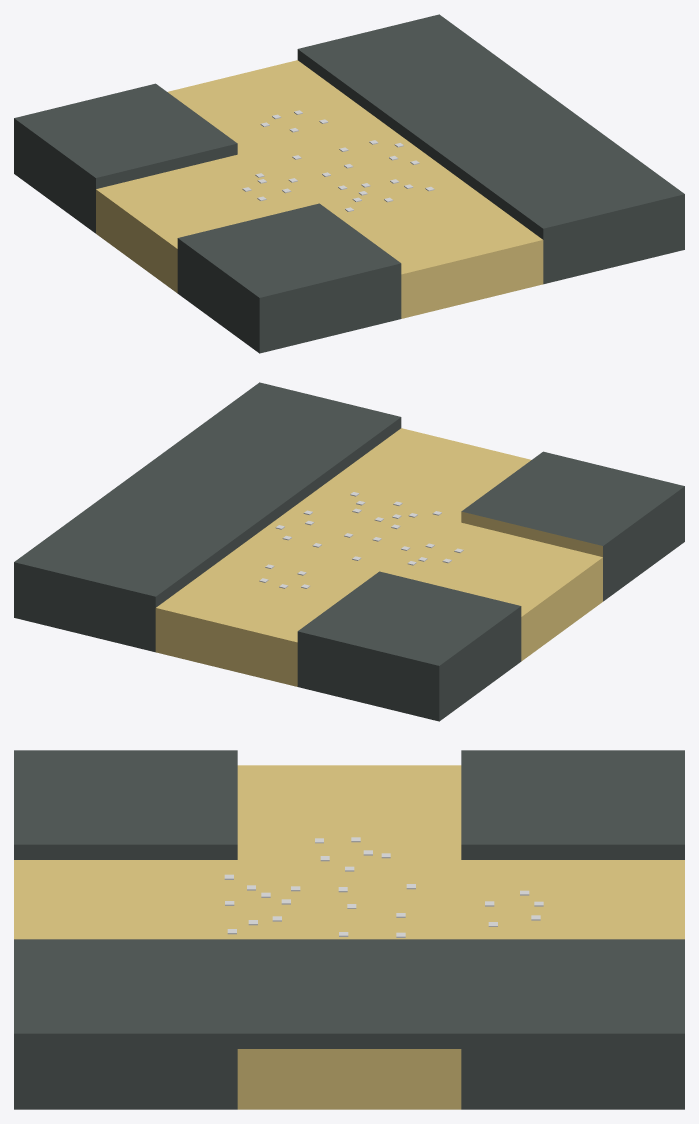
The model's file is Jalan_3Way.fbx.
The picture shows the model from 3 angles, top to bottom: view 1: azimuth 30°, elevation 25°; view 2: azimuth 150°, elevation 25°; view 3: azimuth 270°, elevation 25°; orthographic projection. The views are drawn at different scales.
Parts seen in each view (by area): view 1: Cube; view 2: Cube; view 3: Cube.
Part boxes in pixels (left/top/right/bottom): Cube: left=14, top=14, right=684, bottom=353; Cube: left=14, top=382, right=684, bottom=721; Cube: left=14, top=750, right=684, bottom=1109.
Bounding box in the file's own units: 200 × 25 × 200.
